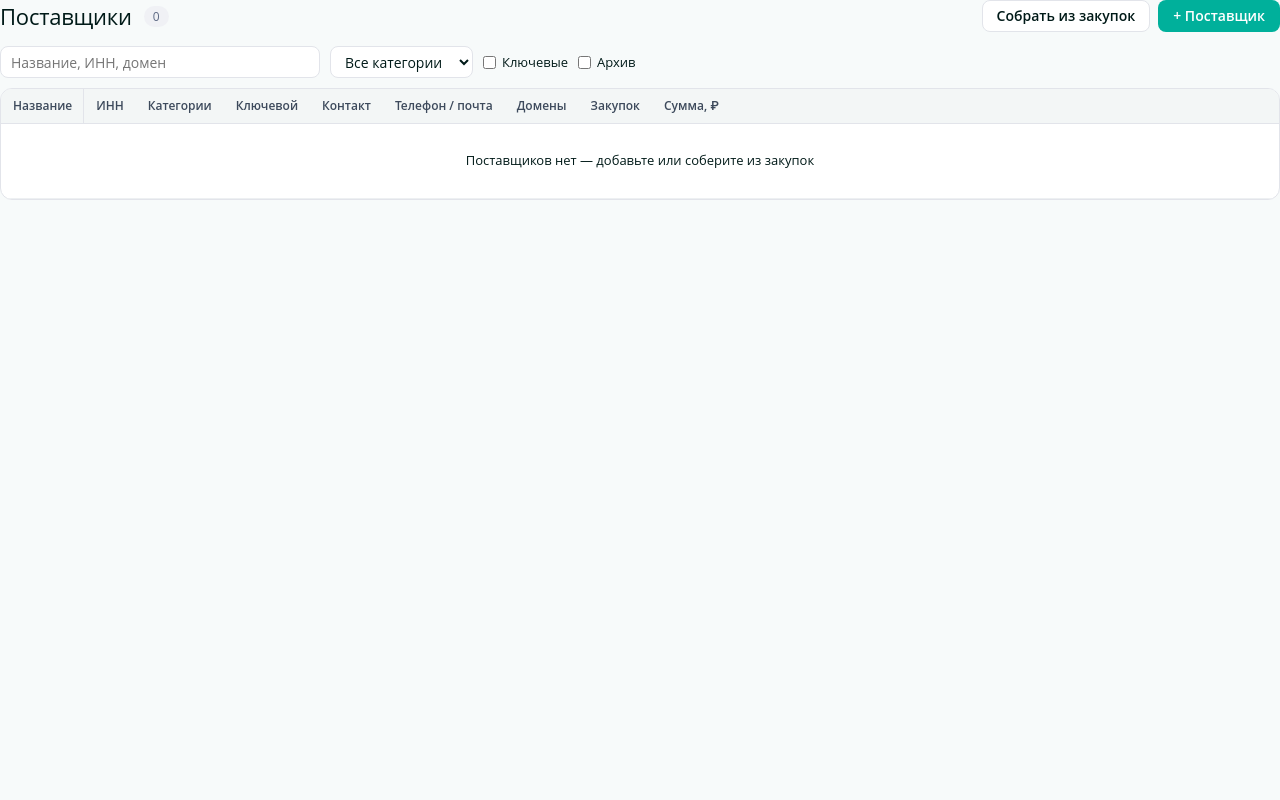
Test: refuses a bad INN in the create form before any request
Expected: the text "Поставщиков нет — добавьте или соберите из закупок" is shown, [1,124,1279,198]
Click the button "+ Поставщик" at (1219, 16), box [1158,0,1279,32]
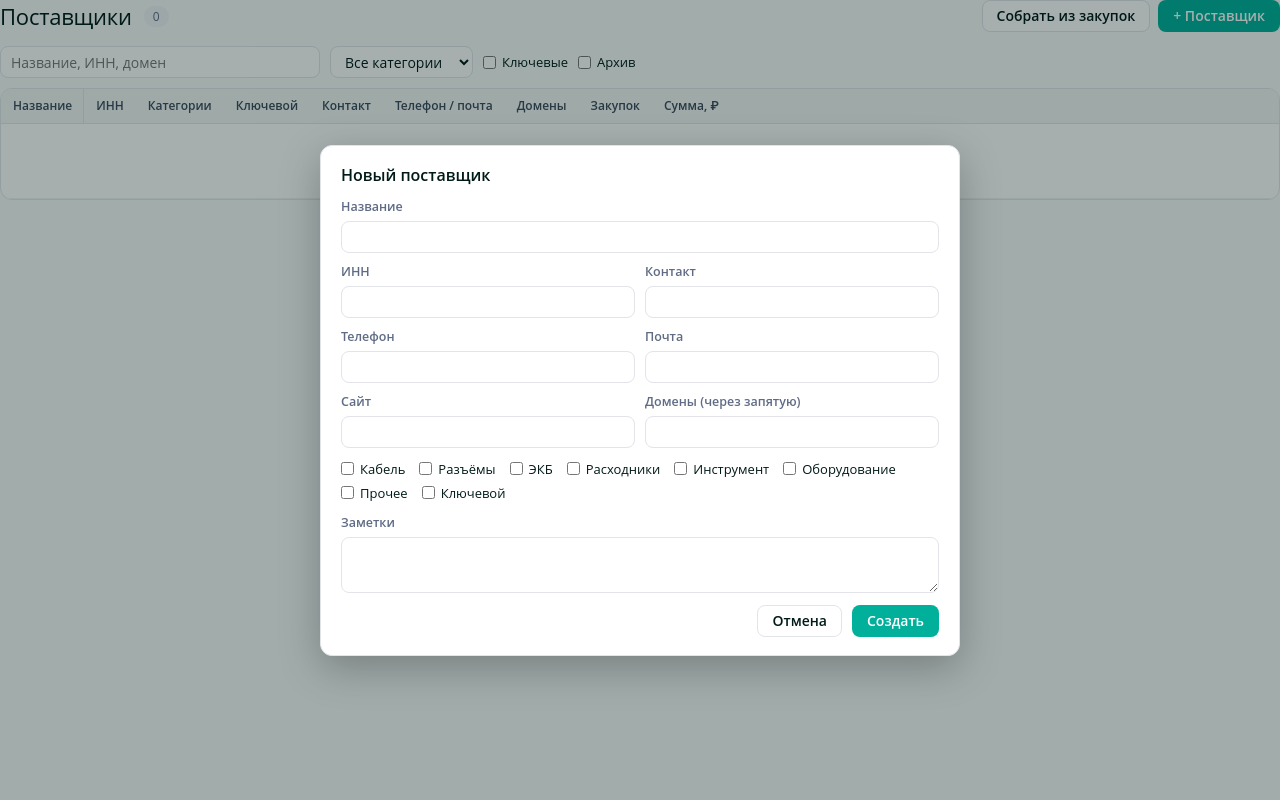
Click the button "Создать" at (896, 620), box [852,604,939,636]
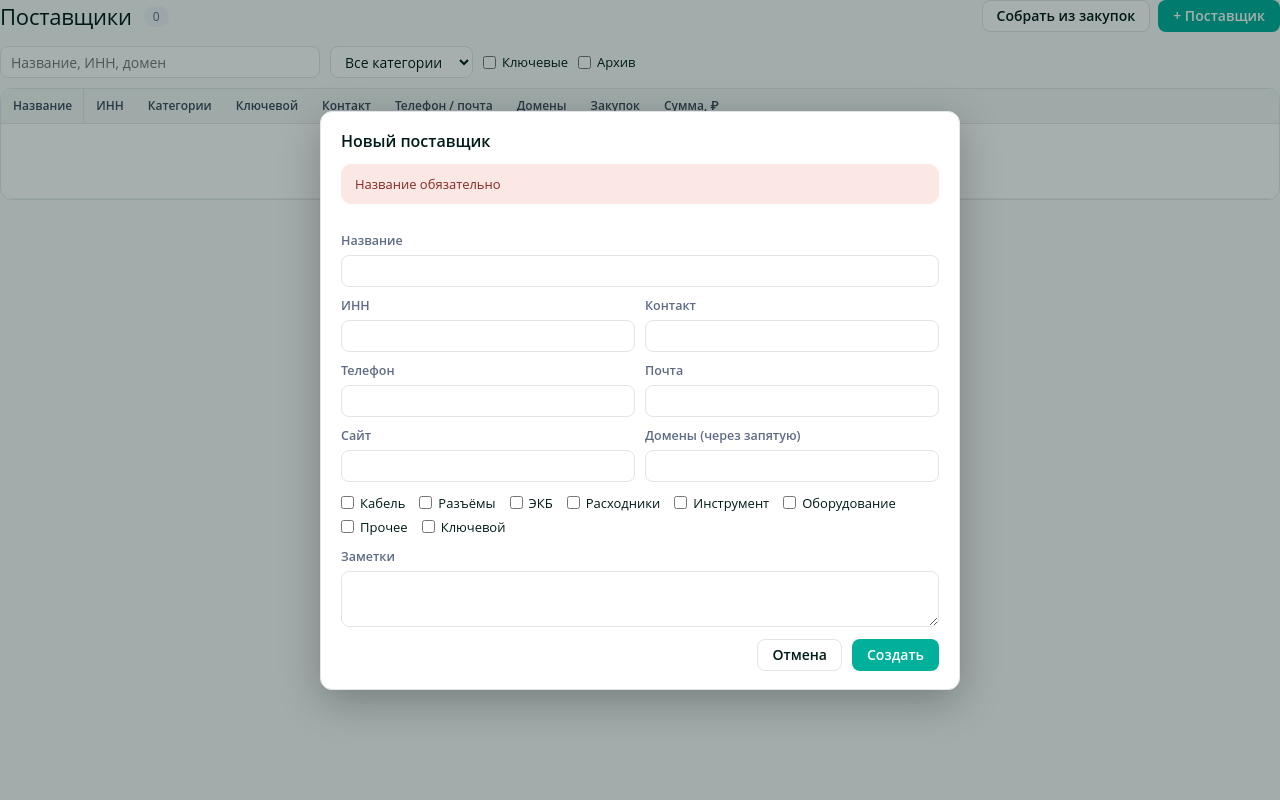
Expected: the text "Название обязательно" is shown, [341,164,939,204]
Type "Ромашка" into the field labelled "Название" at (640, 270), box [341,254,939,286]
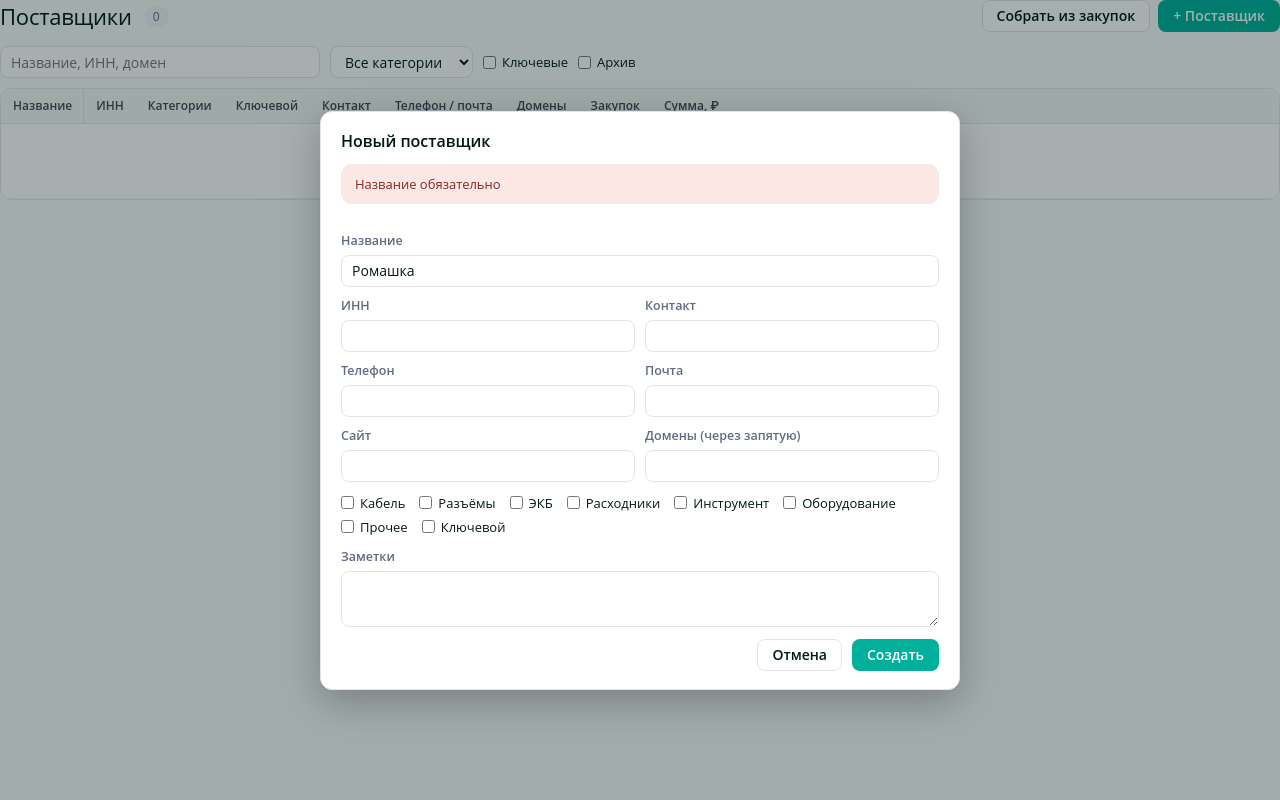
Type "7707083894" into the field labelled "ИНН" at (488, 336), box [341,320,635,352]
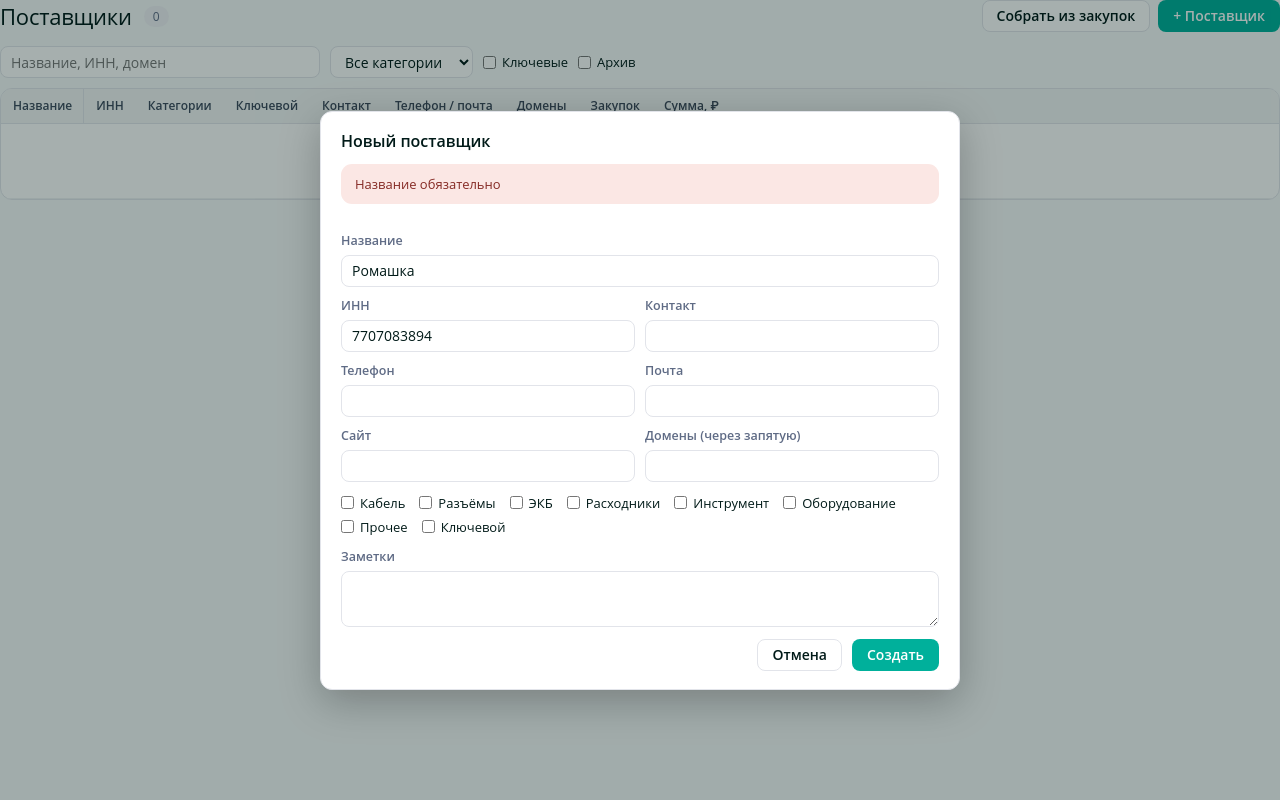
Click the button "Создать" at (896, 654), box [852,638,939,670]
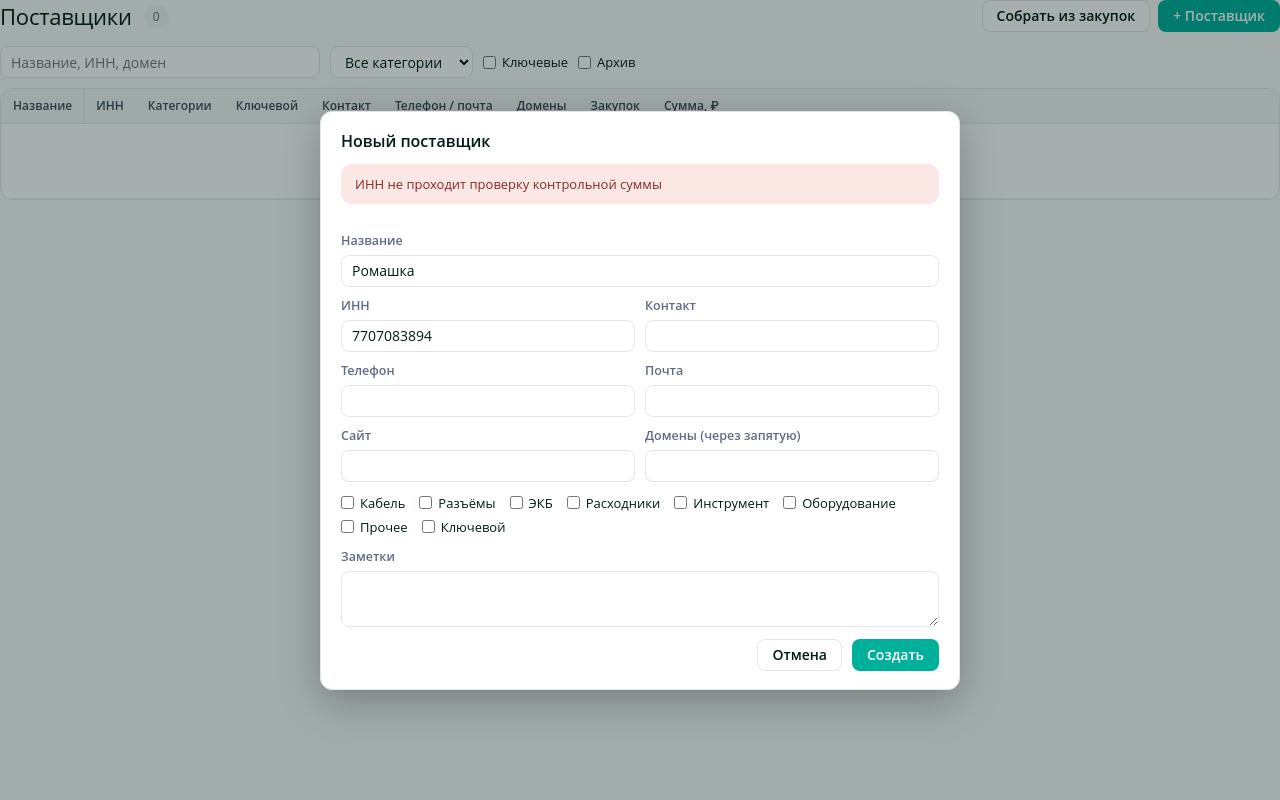
Expected: the text "ИНН не проходит проверку контрольной суммы" is shown, [341,164,939,204]
